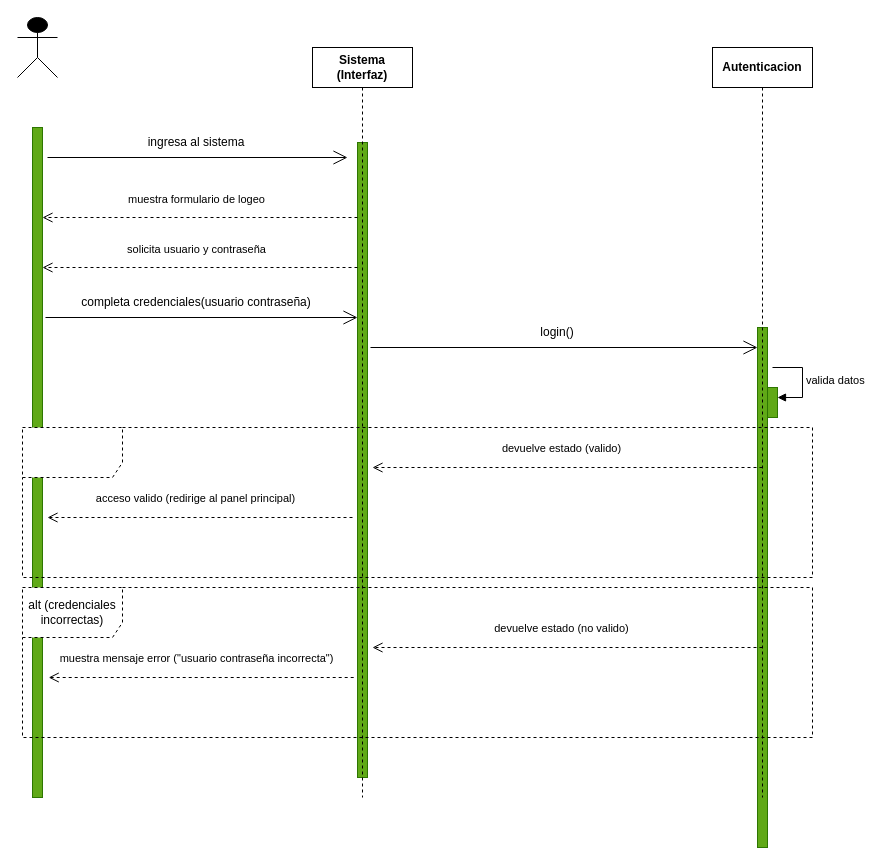
Some shapes in this 883 by 865 pixel diagram are drawn without their labels. The shapes that lost their labels are listed below. From the top down, each one's centre as x and y in pixels, then its label:
At pixel 37 47: "Usuario".
At pixel 417 502: "alt (credenciales correctas)".
